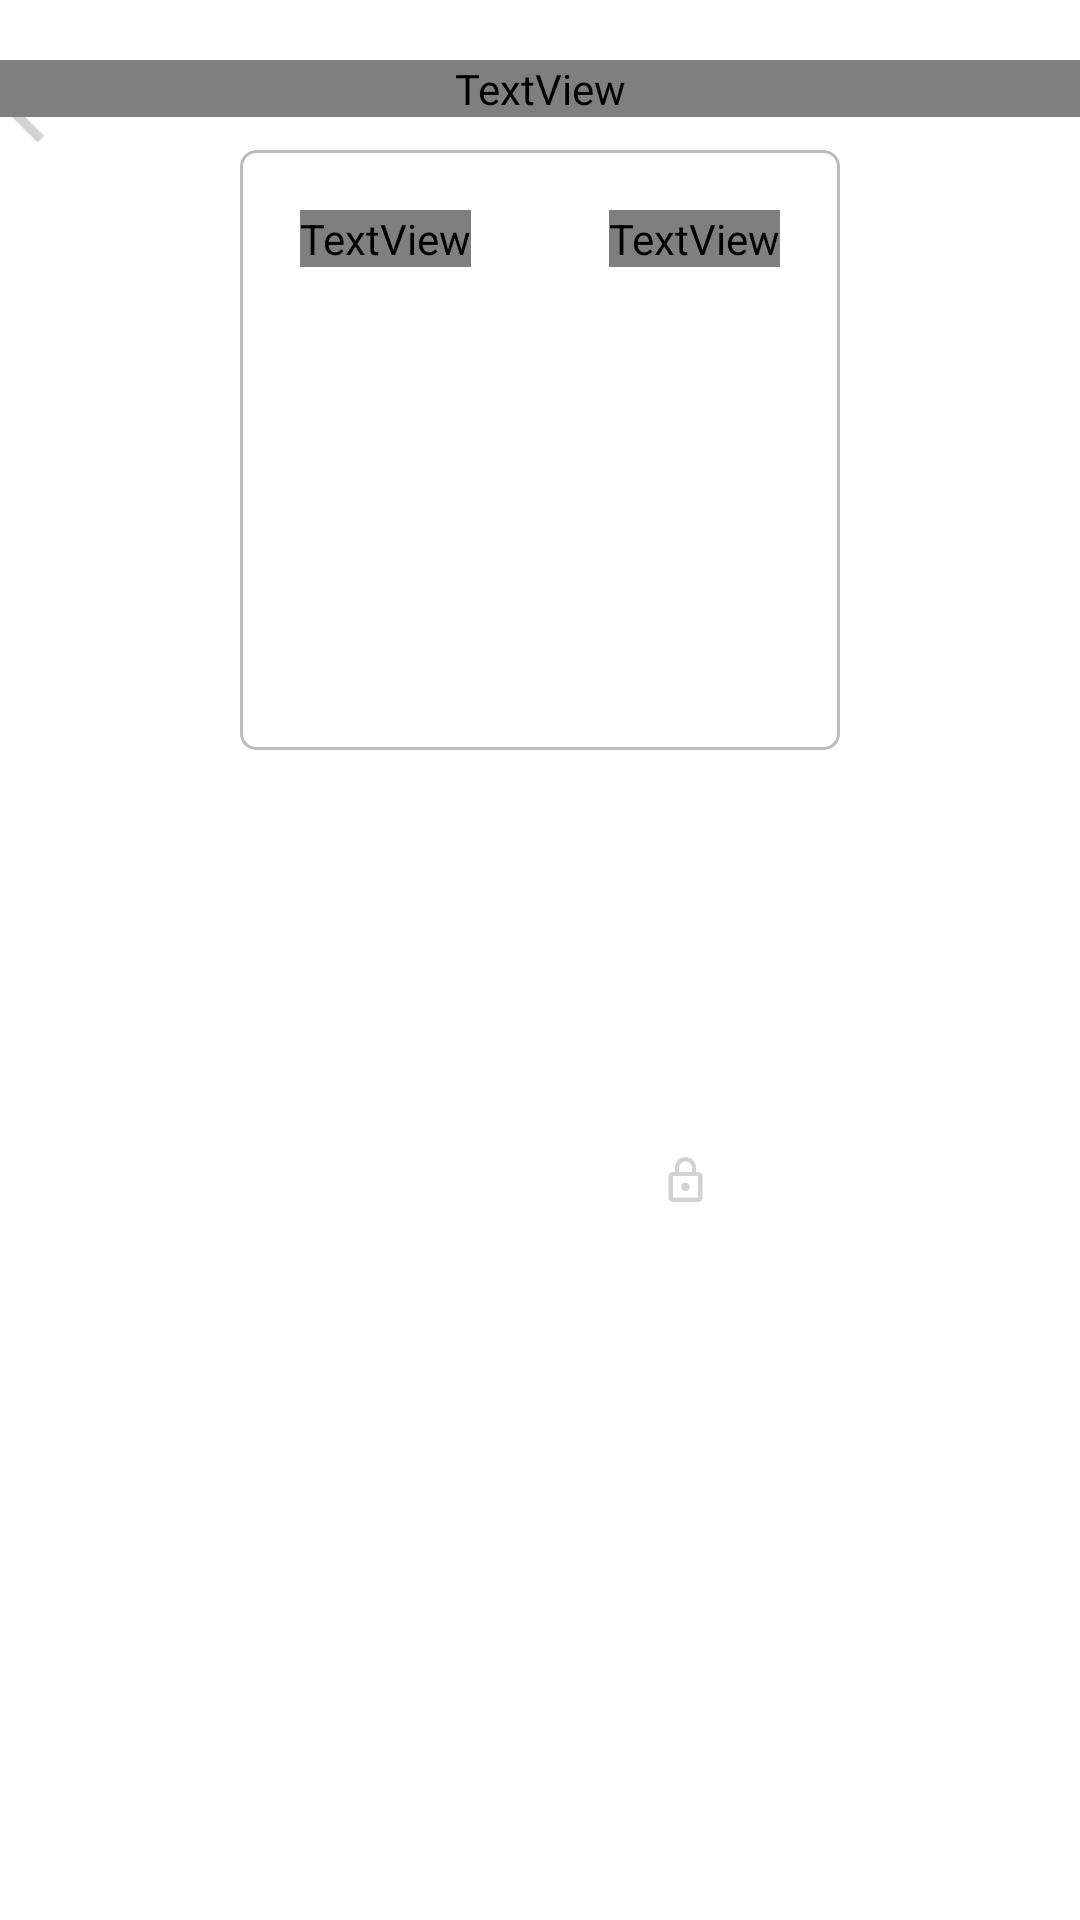

Screen size 1080x1920. Icon name, then its box in pixels as (x1, y1, x2, y2):
lock: (669, 1157, 702, 1202)
